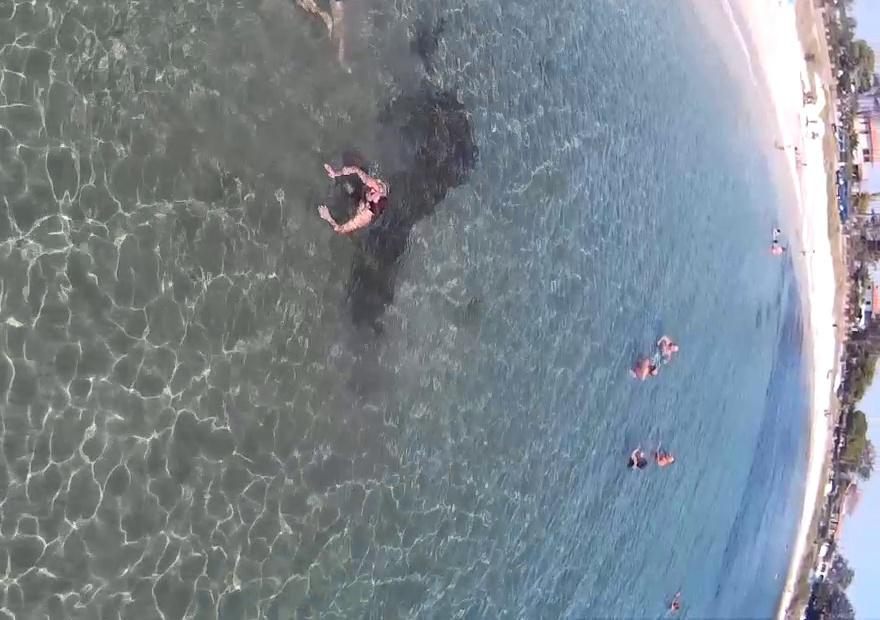swimmer: (305, 146, 390, 257), (297, 0, 369, 85), (621, 348, 667, 396), (660, 326, 696, 368), (629, 428, 652, 490), (647, 440, 680, 476)
